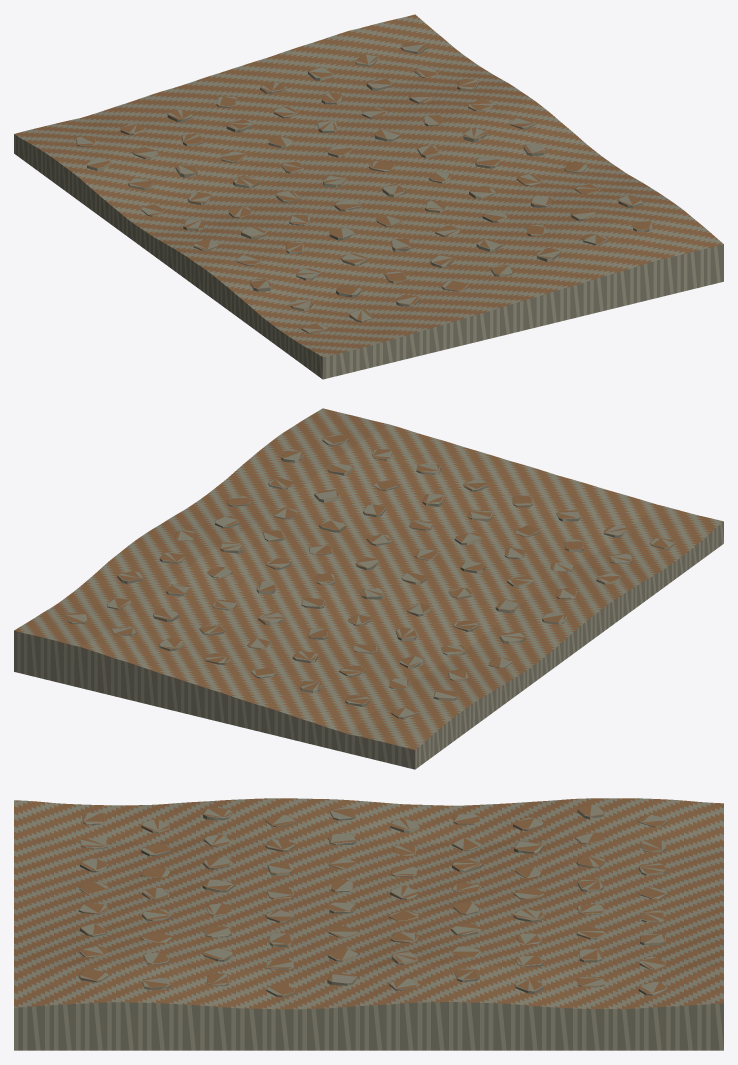
The model's file is rocky_cross_slope.dae.
The picture shows the model from 3 angles, top to bottom: view 1: azimuth 30°, elevation 25°; view 2: azimuth 150°, elevation 25°; view 3: azimuth 270°, elevation 25°; orthographic projection. The views are drawn at different scales.
Visible parts, largest first — view 1: terrain_node; view 2: terrain_node; view 3: terrain_node.
Part boxes in pixels (bbox=[...]): terrain_node: bbox=[14, 14, 723, 379]; terrain_node: bbox=[14, 408, 723, 769]; terrain_node: bbox=[14, 798, 723, 1050].
Bounding box in the file's own units: 6 × 8 × 0.6314.
